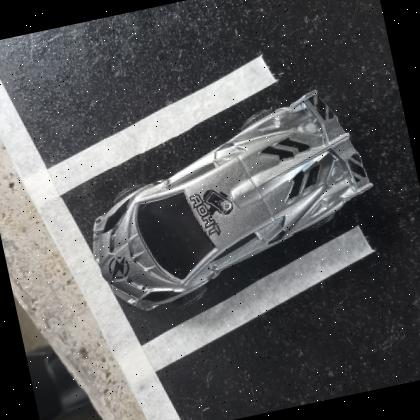Car: (89, 86, 372, 312)
